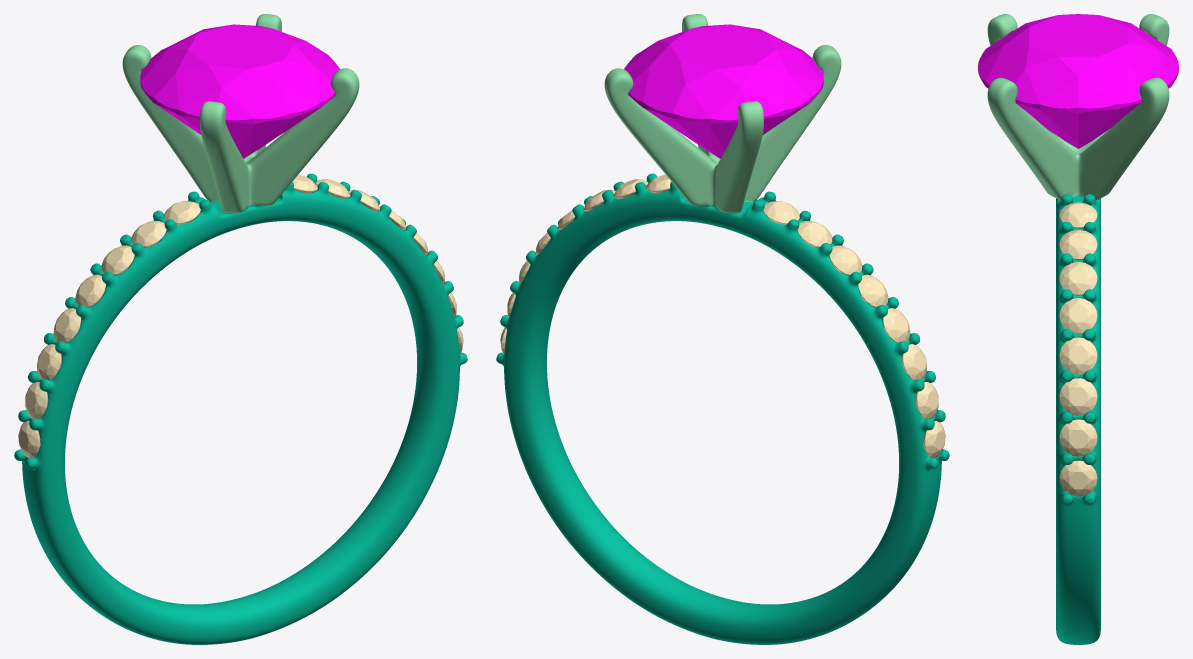
File: BE1PD25R25_RD_200ct_RENDER.glb
3 renders of one model, left to right at view 1: azimuth 30°, elevation 25°; view 2: azimuth 150°, elevation 25°; view 3: azimuth 270°, elevation 25°, orthographic.
Parts seen in each view (by area): view 1: Metal 01, CS_Diamond_Round, Metal 02, Diamond_Round_Gem_SH.011, Diamond_Round_Gem_SH.012, Diamond_Round_Gem_SH.010, Diamond_Round_Gem_SH.013, Diamond_Round_Gem_SH.009, Diamond_Round_Gem_SH.014, Diamond_Round_Gem_SH.008; view 2: Metal 01, CS_Diamond_Round, Metal 02, Diamond_Round_Gem_SH.011, Diamond_Round_Gem_SH.010, Diamond_Round_Gem_SH.012, Diamond_Round_Gem_SH.013, Diamond_Round_Gem_SH.009, Diamond_Round_Gem_SH.014, Diamond_Round_Gem_SH.008; view 3: CS_Diamond_Round, Metal 01, Metal 02, Diamond_Round_Gem_SH.002, Diamond_Round_Gem_SH.001, Diamond_Round_Gem_SH.003, Diamond_Round_Gem_SH, Diamond_Round_Gem_SH.004, Diamond_Round_Gem_SH.005, Diamond_Round_Gem_SH.006, Diamond_Round_Gem_SH.007.
Boxes of the visible parts, x1,y1,x2,y2 form: Metal 01: (14, 173, 467, 644); CS_Diamond_Round: (140, 24, 339, 158); Metal 02: (122, 14, 359, 212); Diamond_Round_Gem_SH.011: (75, 274, 105, 307); Diamond_Round_Gem_SH.012: (53, 308, 80, 342); Diamond_Round_Gem_SH.010: (101, 245, 134, 275); Diamond_Round_Gem_SH.013: (37, 344, 61, 380); Diamond_Round_Gem_SH.009: (131, 221, 166, 247); Diamond_Round_Gem_SH.014: (25, 382, 48, 418); Diamond_Round_Gem_SH.008: (164, 201, 200, 224); Metal 01: (496, 173, 949, 644); CS_Diamond_Round: (624, 24, 823, 158); Metal 02: (604, 14, 841, 212); Diamond_Round_Gem_SH.011: (858, 274, 888, 307); Diamond_Round_Gem_SH.010: (829, 245, 862, 275); Diamond_Round_Gem_SH.012: (883, 308, 910, 342); Diamond_Round_Gem_SH.013: (902, 344, 926, 380); Diamond_Round_Gem_SH.009: (797, 221, 832, 247); Diamond_Round_Gem_SH.014: (915, 382, 938, 418); Diamond_Round_Gem_SH.008: (763, 201, 799, 224); CS_Diamond_Round: (978, 14, 1178, 148); Metal 01: (1056, 194, 1100, 644); Metal 02: (987, 14, 1169, 200); Diamond_Round_Gem_SH.002: (1059, 378, 1097, 415); Diamond_Round_Gem_SH.001: (1059, 419, 1097, 456); Diamond_Round_Gem_SH.003: (1059, 337, 1097, 374); Diamond_Round_Gem_SH: (1059, 460, 1097, 496); Diamond_Round_Gem_SH.004: (1059, 298, 1097, 333); Diamond_Round_Gem_SH.005: (1059, 262, 1097, 295); Diamond_Round_Gem_SH.006: (1059, 229, 1097, 259); Diamond_Round_Gem_SH.007: (1059, 202, 1097, 227).
Bounding box in the file's own units: 20.13 × 25.76 × 8.
